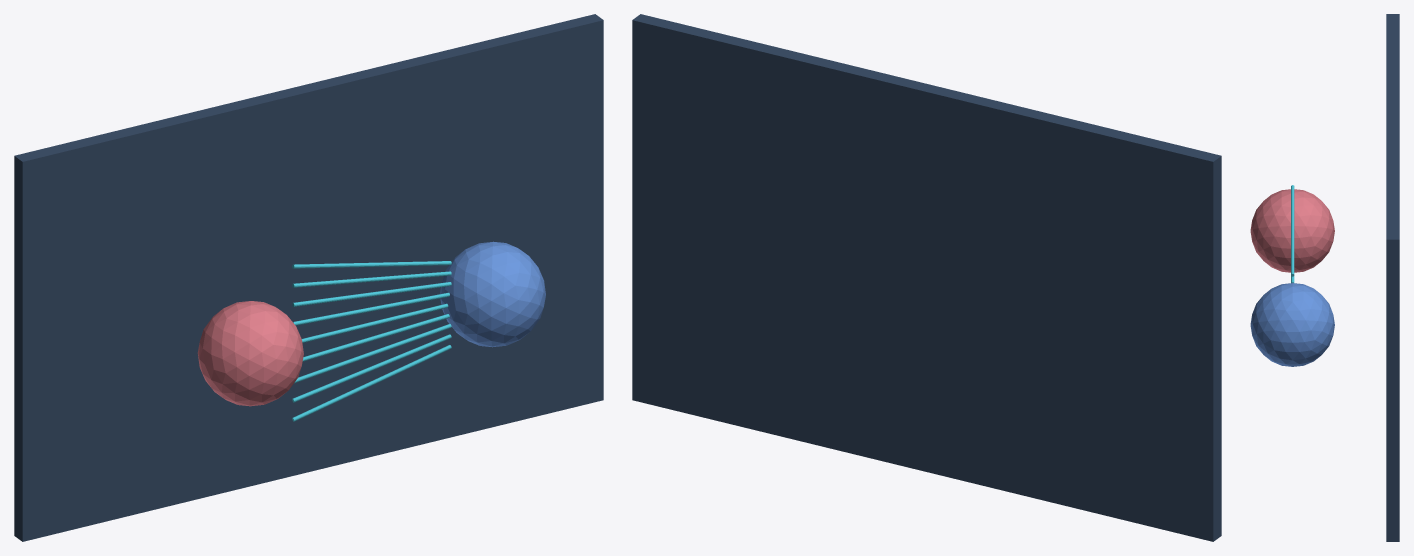
Rendered from electrostatic-field-potential.glb.
3 renders of one model, left to right at view 1: azimuth 30°, elevation 25°; view 2: azimuth 150°, elevation 25°; view 3: azimuth 270°, elevation 25°, orthographic. The views are drawn at different scales.
Parts seen in each view (by area): view 1: bench, positive_charge, negative_charge, field_line_0, field_line_1, field_line_2, field_line_6, field_line_7, field_line_8, field_line_5, field_line_3, field_line_4; view 2: bench; view 3: bench, negative_charge, positive_charge, field_line_8.
Part boxes in pixels (x1,y1,x2,y2): bench: (14,14,603,541); positive_charge: (197,301,303,406); negative_charge: (440,241,545,347); field_line_0: (292,345,451,421); field_line_1: (292,334,451,402); field_line_2: (294,324,451,383); field_line_6: (292,282,451,306); field_line_7: (292,271,451,287); field_line_8: (292,261,451,268); field_line_5: (293,292,449,325); field_line_3: (302,314,449,361); field_line_4: (302,303,448,342); bench: (632,14,1221,541); bench: (1386,14,1399,541); negative_charge: (1250,283,1334,366); positive_charge: (1250,189,1334,272); field_line_8: (1291,185,1294,276).
Size of the model in its own units: 4.8 by 3 by 1.34.
